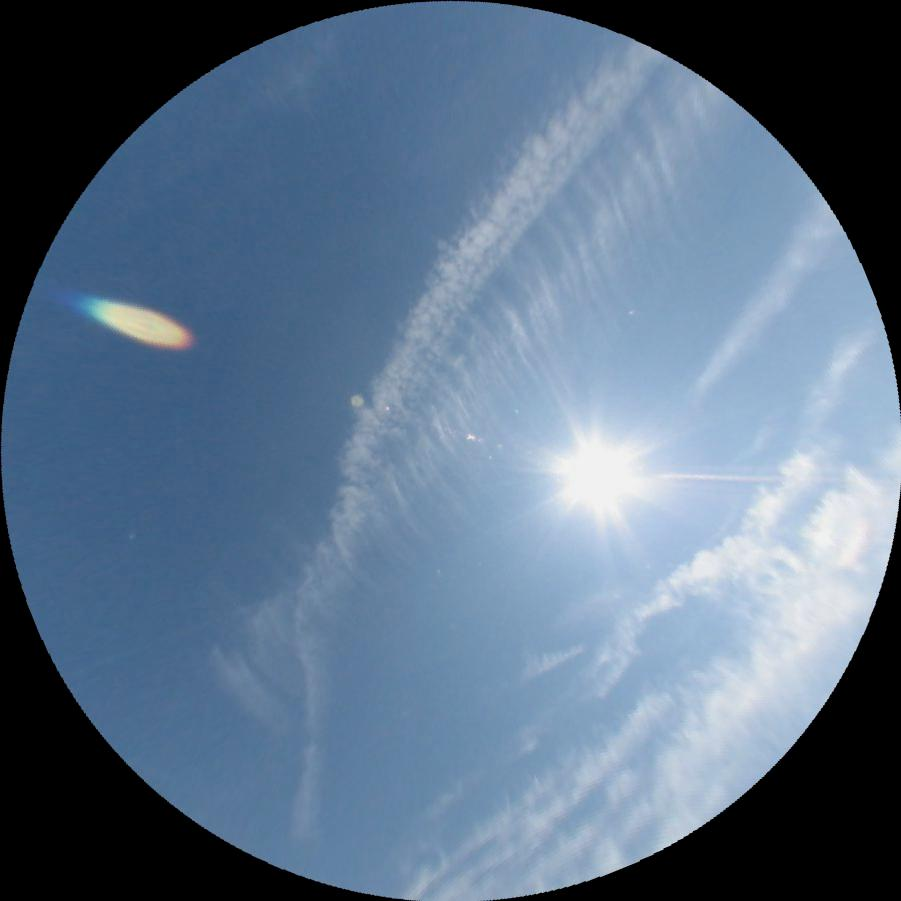contrail veryold: (187, 51, 772, 758), (183, 0, 670, 848), (691, 186, 855, 411)
parasite: (654, 472, 842, 482)
sun: (566, 443, 636, 504)
